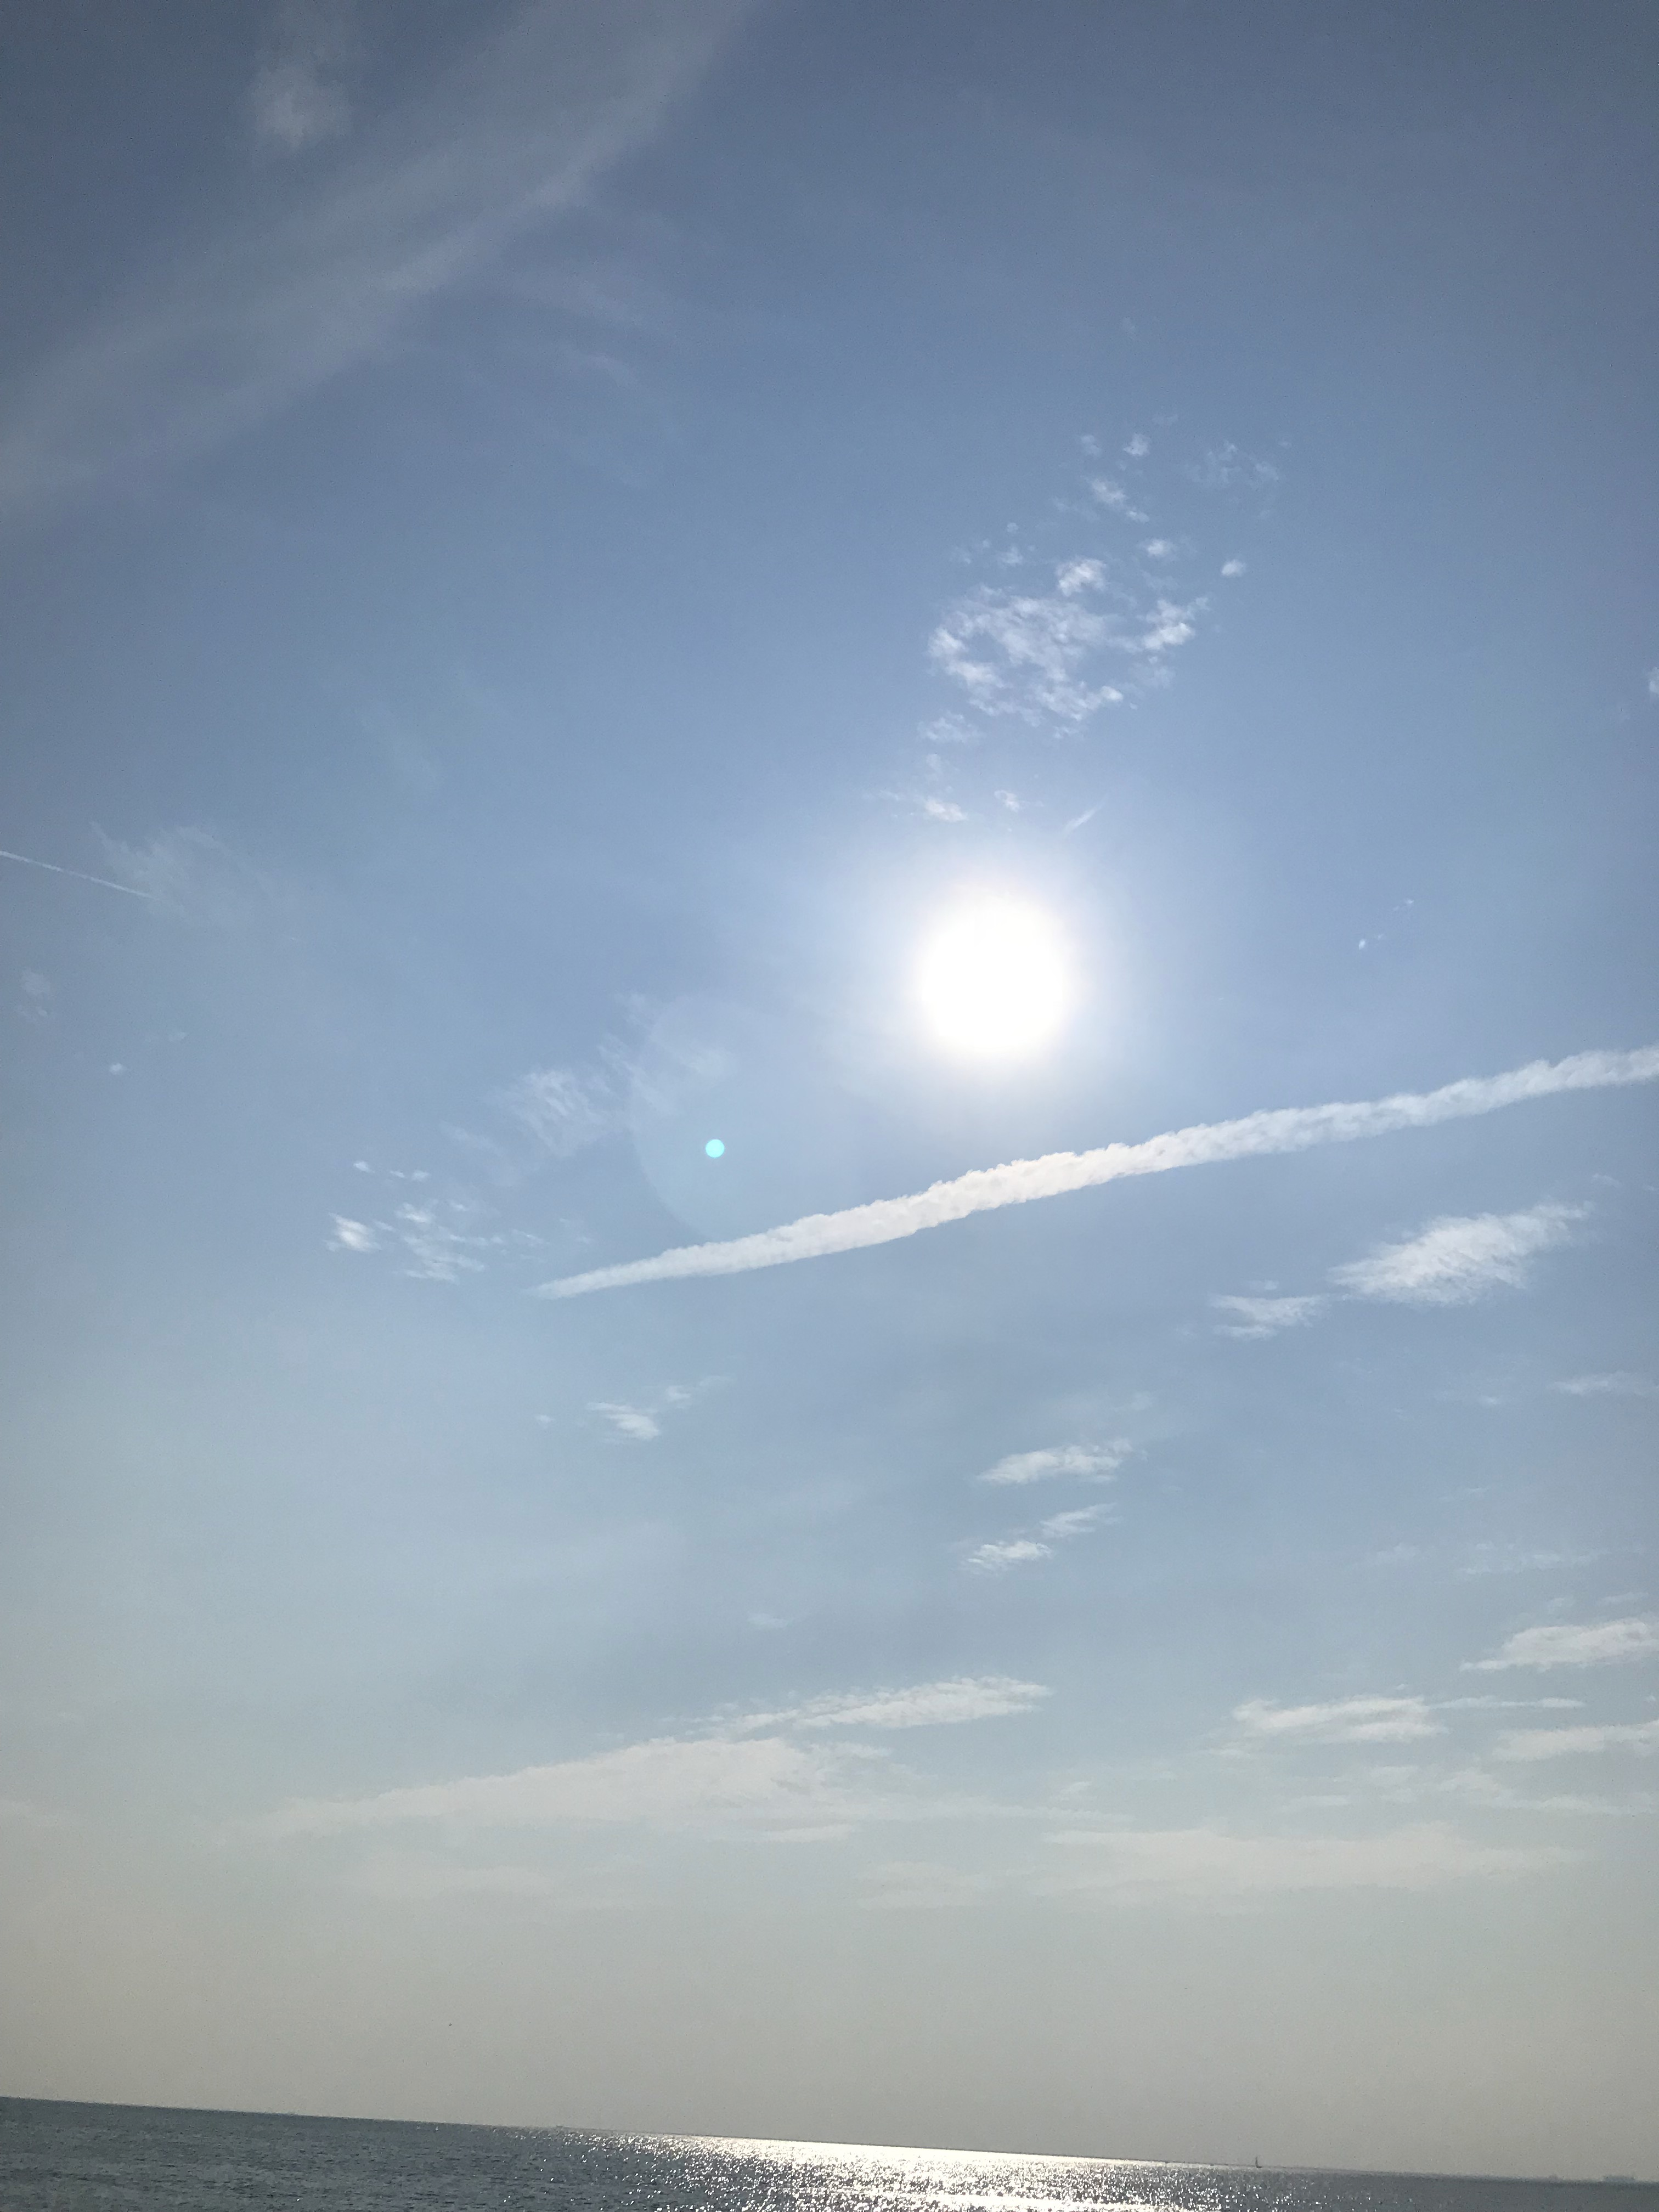flare: (704, 1137, 727, 1160)
